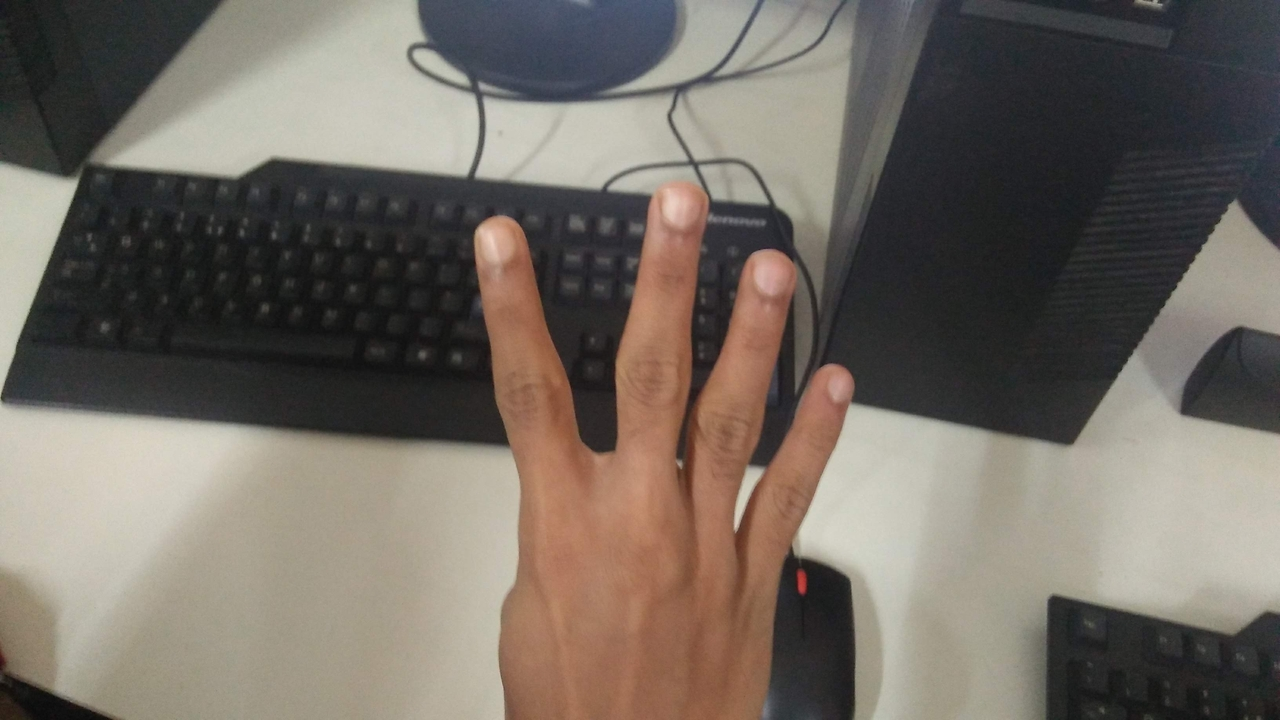fingertip: (464, 210, 534, 280), (642, 174, 712, 244), (730, 244, 796, 316), (800, 360, 866, 418)
